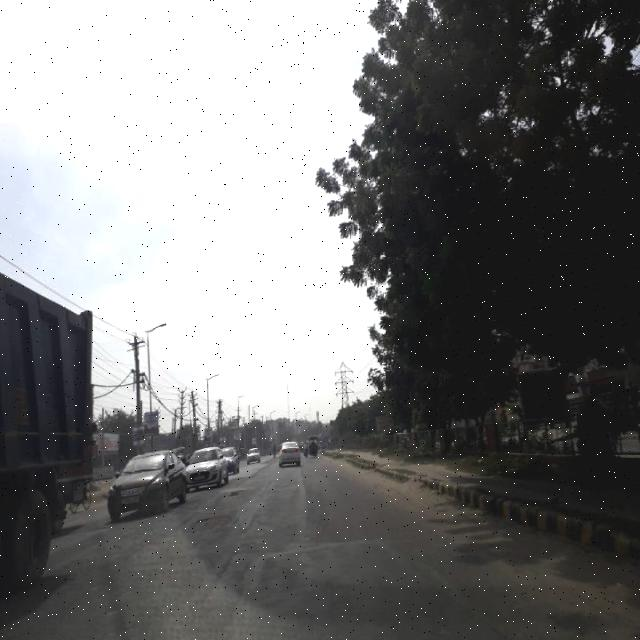D40: (185, 506, 243, 536)
